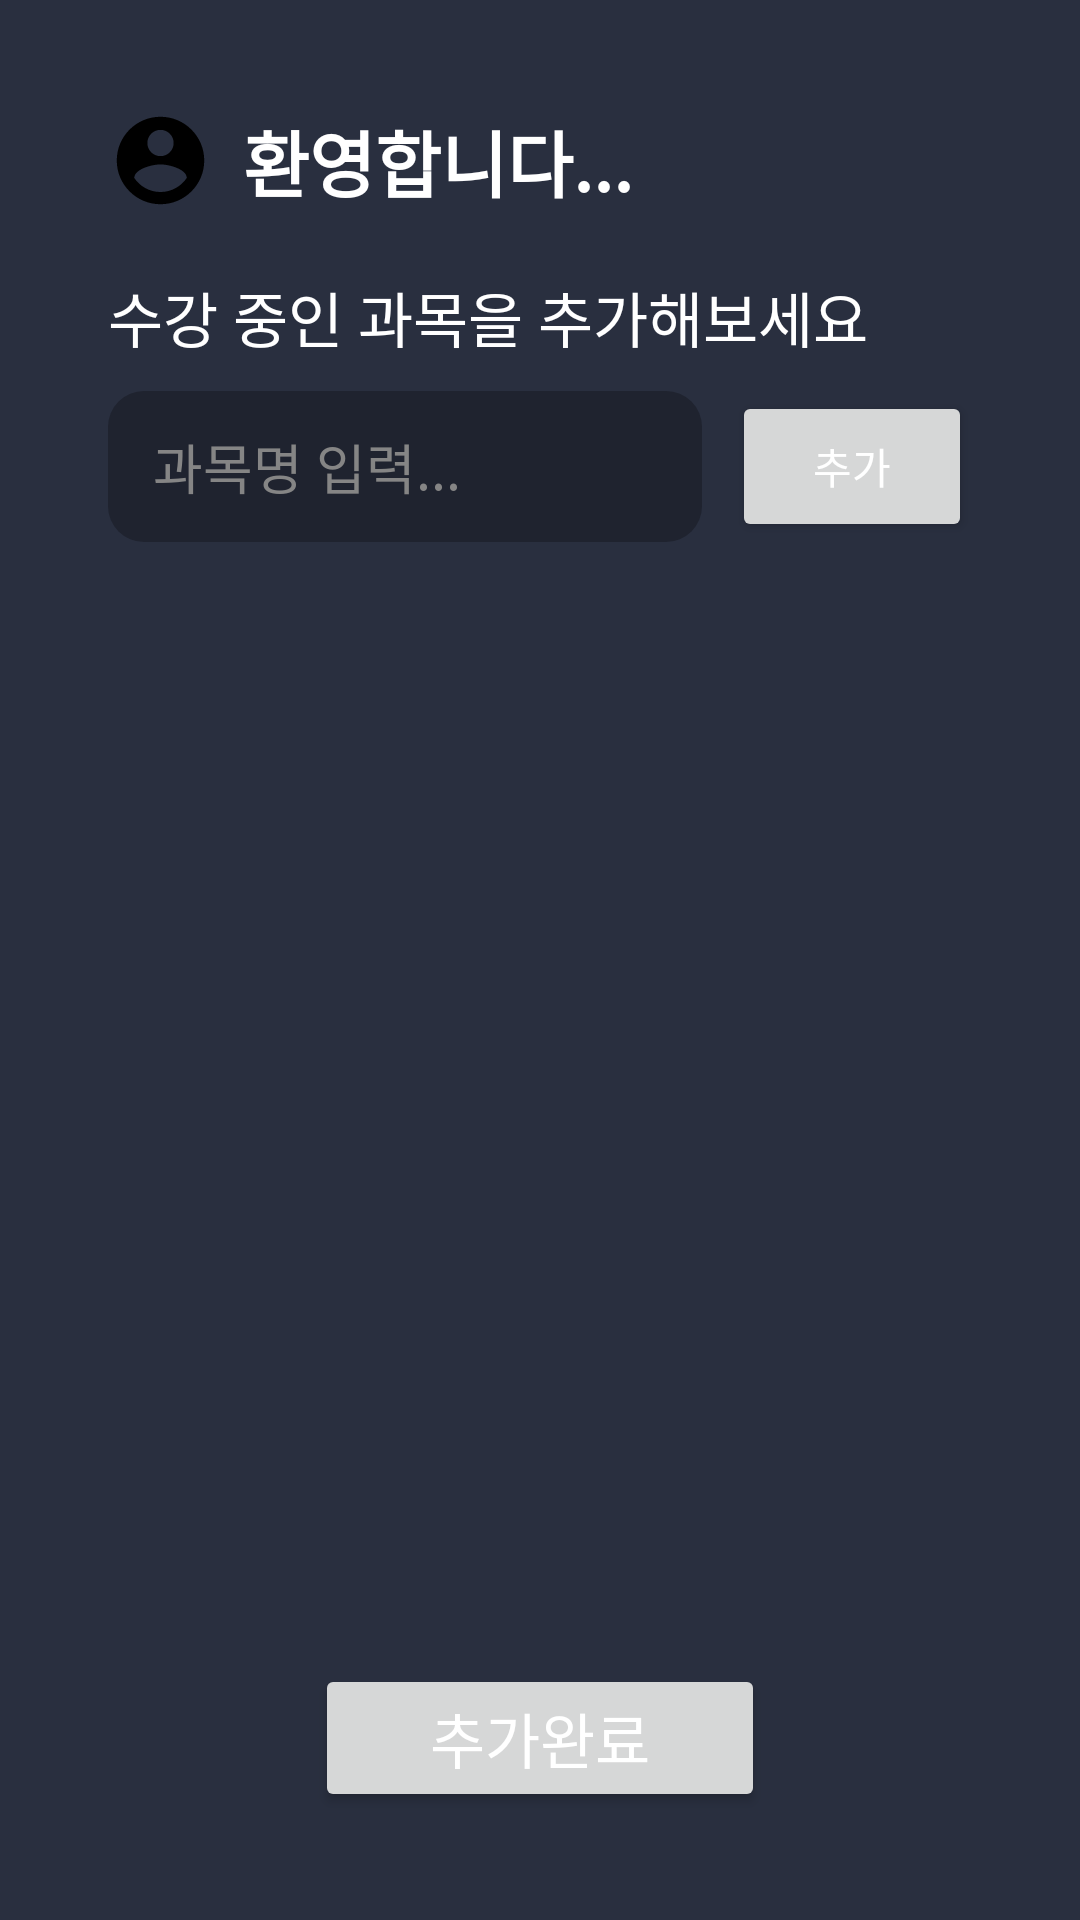

Where icons sit on this 1080*1920 app screen, as (x1, y1, x2, y2):
account circle: (117, 117, 204, 204)
